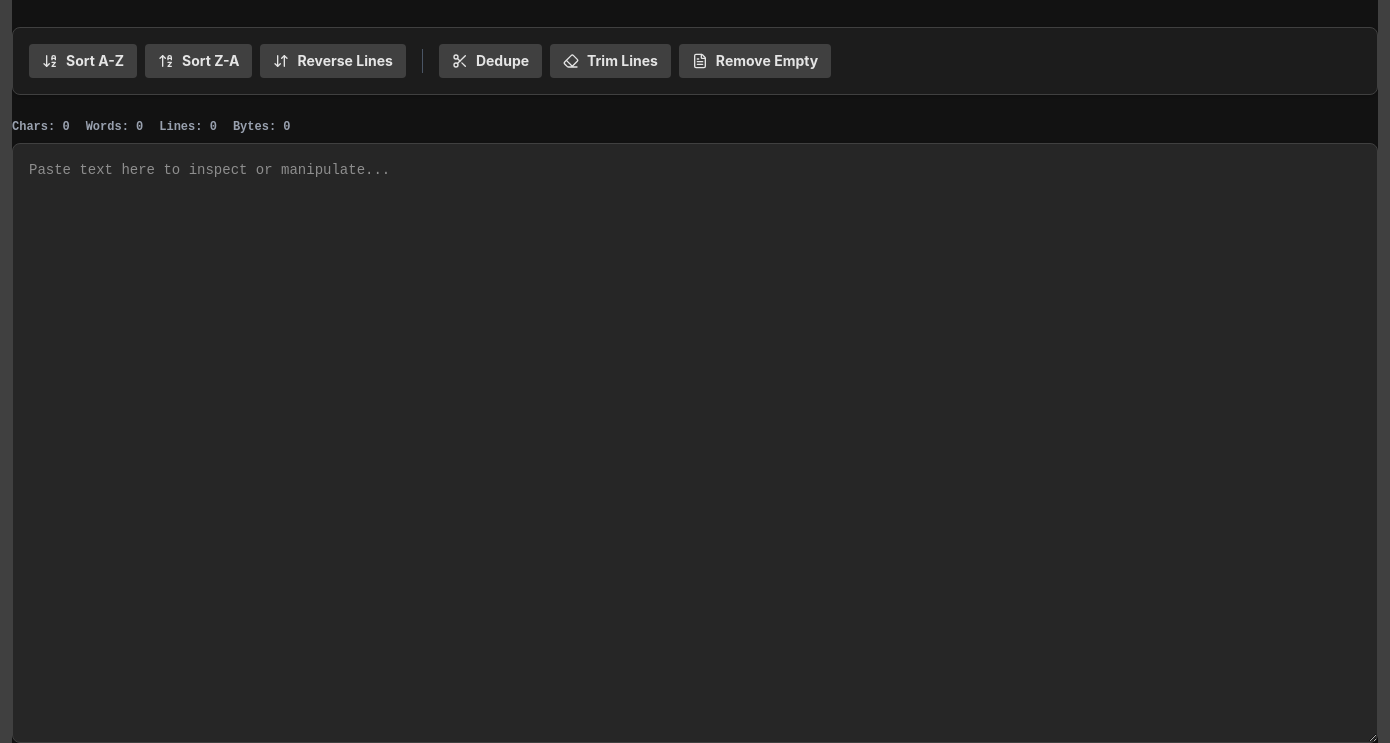
Test: TextTool › handles text inspection
Type "hello world" into the text box with placeholder "Paste text here to inspect or manipulate..." at (695, 443), box [12,143,1378,742]
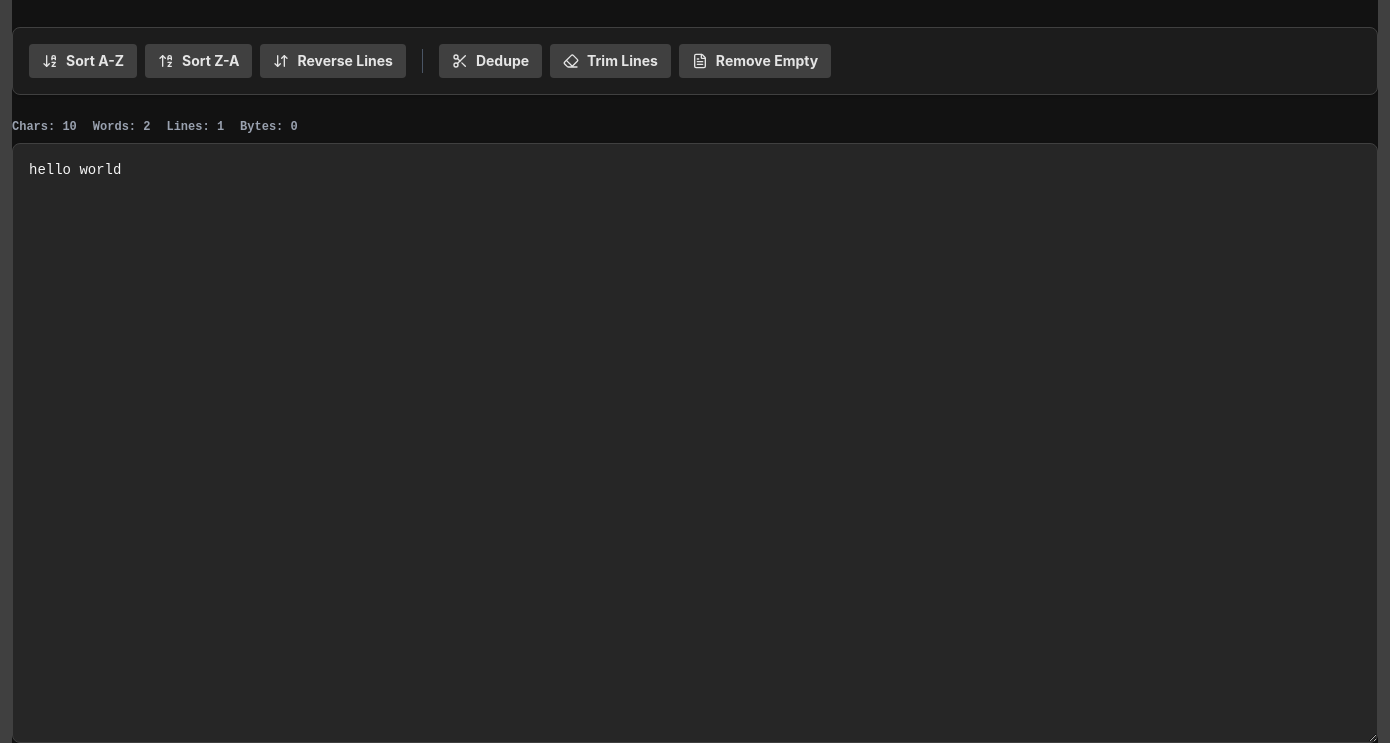
expect the text "Chars: 10" is shown: met, box [12,119,77,135]
expect the text "Words: 2" is shown: met, box [93,119,150,135]
